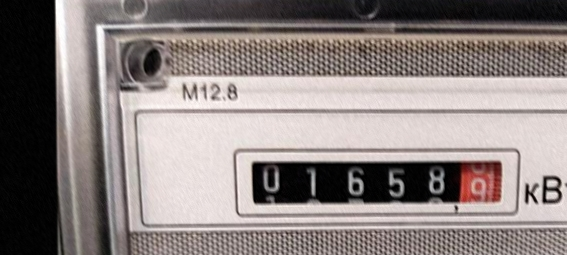0: (260, 162, 280, 192)
1: (303, 164, 320, 196)
5: (385, 165, 406, 196)
6: (345, 163, 365, 196)
8: (426, 162, 446, 194)
9: (466, 175, 487, 204)
screen: (223, 137, 524, 223)
